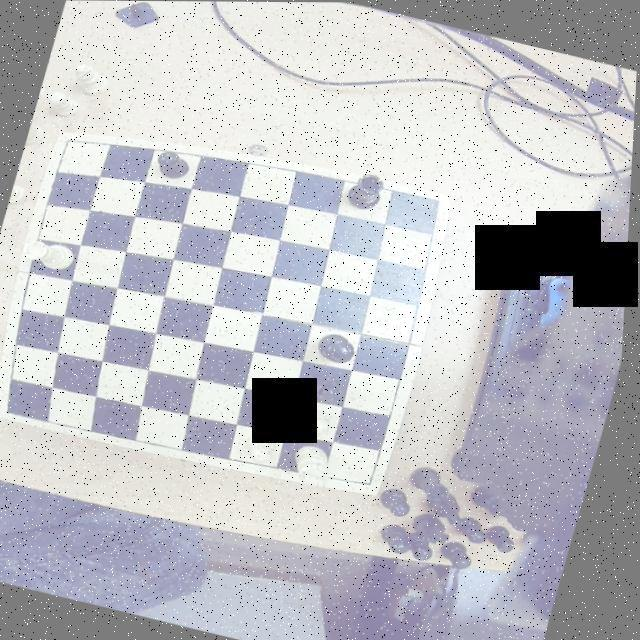chess-table-corners: (421, 189, 452, 216), (361, 467, 389, 494), (0, 400, 30, 422), (54, 132, 82, 155)
